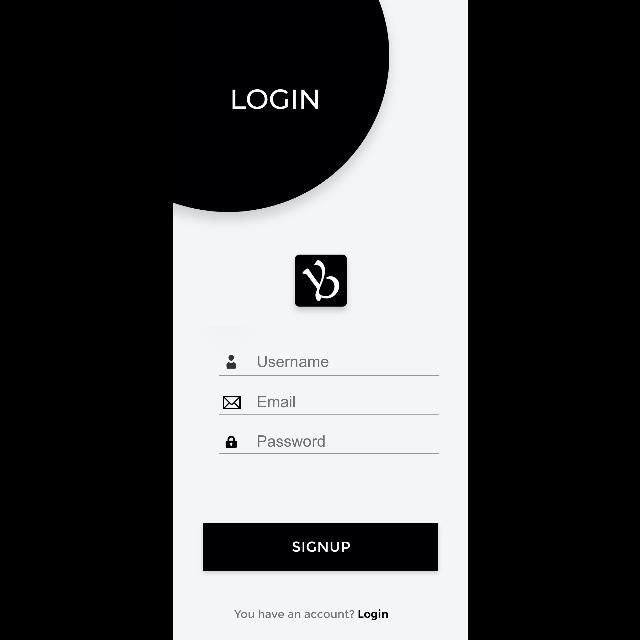icon: (222, 396, 240, 409), (225, 355, 235, 369), (226, 436, 237, 448)
image: (294, 255, 346, 307)
input: (218, 354, 438, 376), (218, 436, 438, 454), (218, 396, 438, 414)
text: (232, 89, 318, 109), (234, 610, 388, 620), (258, 356, 328, 368), (258, 435, 324, 447), (258, 396, 294, 408)
textbutton: (202, 524, 438, 570)
